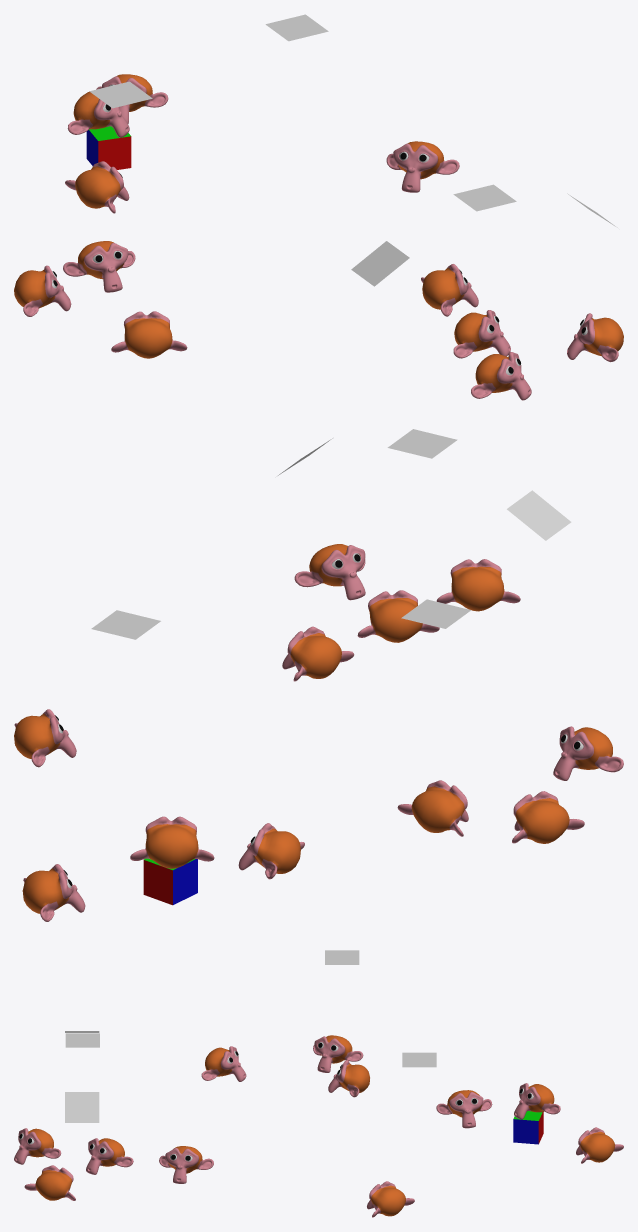
Rendered from monos.obj.
The picture shows the model from 3 angles, top to bottom: view 1: azimuth 30°, elevation 25°; view 2: azimuth 150°, elevation 25°; view 3: azimuth 270°, elevation 25°; orthographic projection. The views are drawn at different scales.
Visible parts, largest first — view 1: mono.005, mono.009, mono.004, mono.001, mono, mono.007, mono.003, mono.006, mono.002, mono.008, Cube, luz.001 (+4 smaller); view 2: mono.008, mono.001, mono.006, mono.005, mono.003, mono.004, mono.002, mono, mono.010, mono.009, mono.007, Cube (+4 smaller); view 3: mono.007, mono.002, mono.003, mono.006, mono, mono.001, mono.008, luz.002, mono.005, mono.010, mono.009, mono.004 (+4 smaller).
Boxes of the visible parts, box(x1,y1,x2,y2) form: mono.005: box(111, 311, 187, 358); mono.009: box(386, 141, 459, 192); mono.004: box(63, 241, 135, 292); mono.001: box(471, 352, 531, 400); mono: box(453, 310, 510, 358); mono.007: box(65, 161, 129, 213); mono.003: box(14, 265, 71, 316); mono.006: box(567, 313, 623, 362); mono.002: box(421, 264, 478, 316); mono.008: box(67, 91, 129, 137); Cube: box(86, 126, 131, 169); luz.001: box(351, 241, 409, 286); mono.008: box(130, 816, 214, 868); mono.001: box(436, 559, 520, 611); mono.006: box(294, 544, 365, 600); mono.005: box(553, 726, 623, 780); mono.003: box(512, 791, 584, 843); mono.004: box(397, 780, 468, 836); mono.002: box(282, 626, 354, 681); mono: box(357, 590, 439, 642); mono.010: box(22, 864, 85, 921); mono.009: box(14, 709, 76, 767); mono.007: box(238, 823, 304, 879); Cube: box(143, 858, 197, 905); mono.007: box(436, 1090, 492, 1128); mono.002: box(159, 1146, 213, 1183); mono.003: box(313, 1035, 363, 1072); mono.006: box(24, 1165, 75, 1200); mono: box(86, 1138, 133, 1174); mono.001: box(14, 1128, 61, 1164); mono.008: box(514, 1083, 560, 1119); luz.002: box(65, 1092, 99, 1122); mono.005: box(201, 1046, 246, 1081); mono.010: box(576, 1127, 623, 1163); mono.009: box(367, 1181, 414, 1217); mono.004: box(328, 1060, 369, 1097).
Size of what is drawn, in the model's own units: 4.71 by 1.79 by 7.08.
